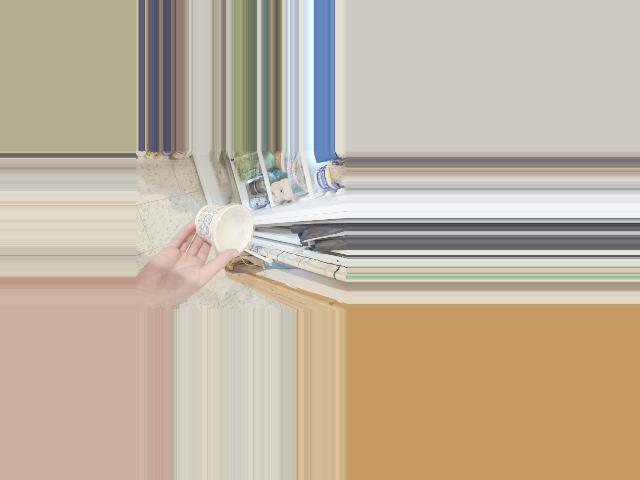cotage: (197, 207, 245, 255)
